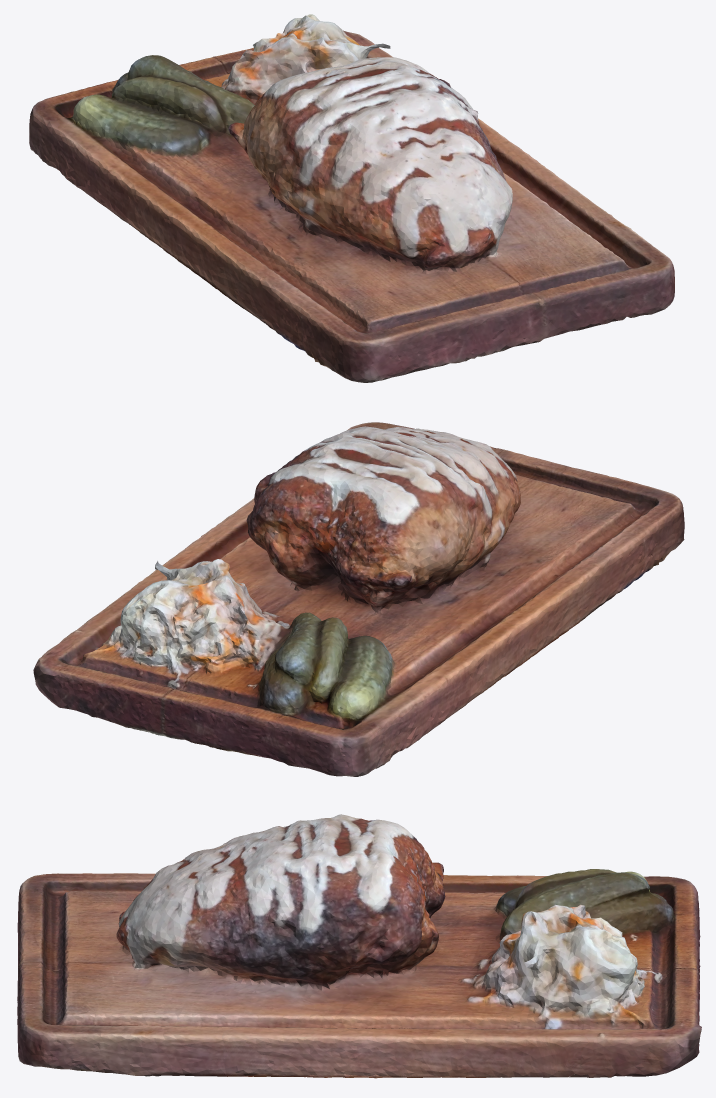
The model's file is sineyye.morgh.jadid.glb.
3 renders of one model, top to bottom at view 1: azimuth 30°, elevation 25°; view 2: azimuth 150°, elevation 25°; view 3: azimuth 270°, elevation 25°, orthographic.
Parts seen in each view (by area): view 1: object 1; view 2: object 1; view 3: object 1.
Boxes of the visible parts, x1,y1,x2,y2 form: object 1: [29, 14, 674, 382]; object 1: [33, 422, 684, 776]; object 1: [17, 814, 701, 1078].
Size of the model in its own units: 0.2071 by 0.0917 by 0.3512.
2 materials, 1 textured.
